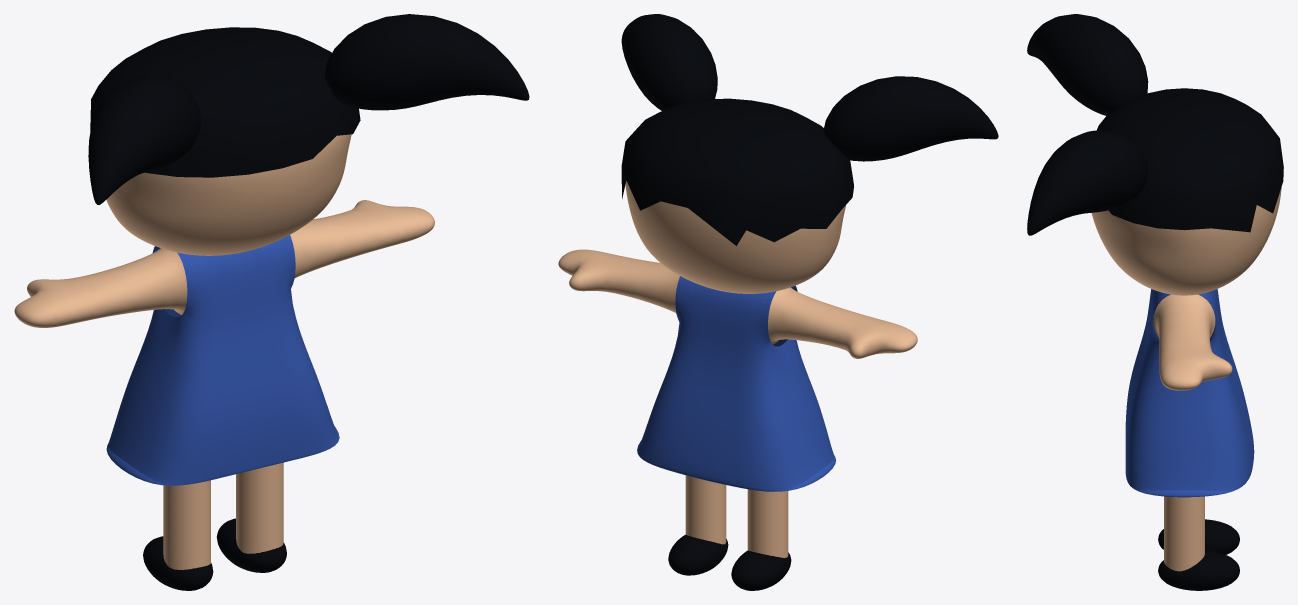
File: Sis.fbx
3 renders of one model, left to right at view 1: azimuth 30°, elevation 25°; view 2: azimuth 150°, elevation 25°; view 3: azimuth 270°, elevation 25°, orthographic. The views are drawn at different scales.
Parts seen in each view (by area): view 1: Cube_2, Sphere_2, Sphere, Head, Cube_1, leg, Cube; view 2: Cube_2, Sphere, Sphere_2, Head, Cube_1, leg, Cube; view 3: Sphere, Cube_2, Sphere_2, Head, Cube_1, Cube, leg.
Part boxes in pixels (x1,y1,x2,y2): Cube_2: [106, 235, 339, 485]; Sphere_2: [88, 14, 529, 204]; Sphere: [88, 27, 360, 177]; Head: [106, 134, 351, 255]; Cube_1: [14, 200, 434, 327]; leg: [163, 462, 283, 569]; Cube: [143, 518, 286, 590]; Cube_2: [637, 276, 835, 491]; Sphere: [621, 98, 853, 245]; Sphere_2: [621, 14, 998, 161]; Head: [625, 181, 845, 293]; Cube_1: [558, 249, 917, 358]; leg: [685, 475, 788, 557]; Cube: [668, 534, 791, 590]; Sphere: [1096, 88, 1283, 232]; Cube_2: [1125, 289, 1254, 497]; Sphere_2: [1027, 14, 1148, 235]; Head: [1091, 187, 1281, 295]; Cube_1: [1153, 294, 1232, 390]; Cube: [1158, 519, 1239, 590]; leg: [1164, 496, 1204, 571].
Size of the model in its own units: 358 by 449 by 212.
